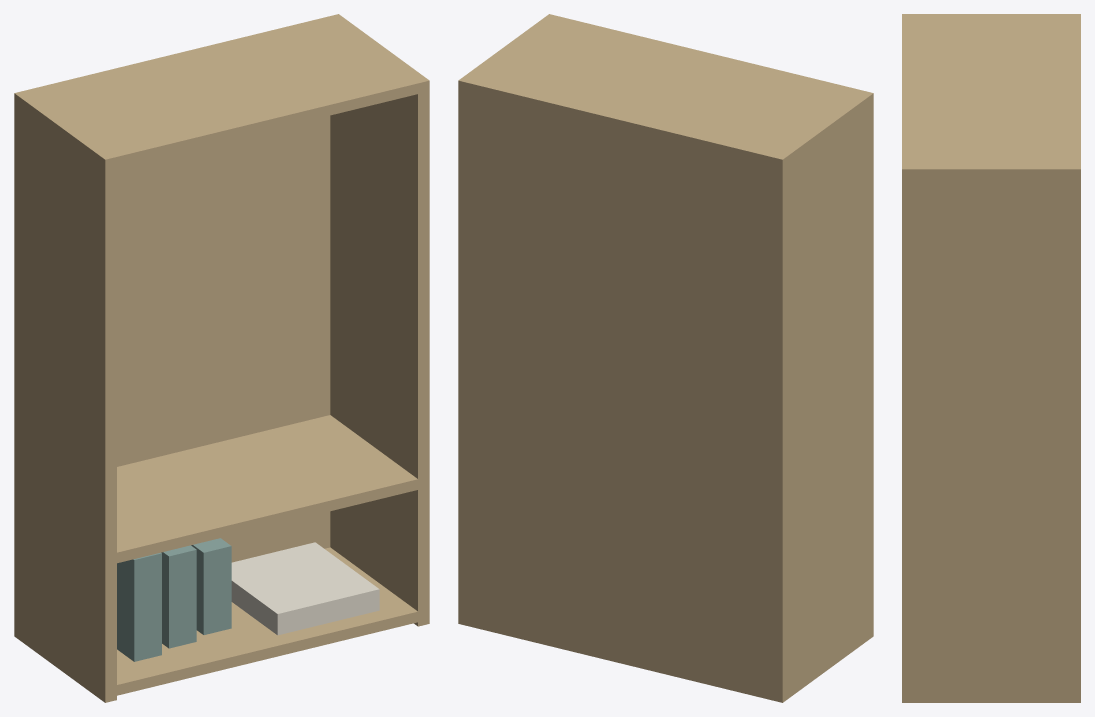
3 renders of one model, left to right at view 1: azimuth 30°, elevation 25°; view 2: azimuth 150°, elevation 25°; view 3: azimuth 270°, elevation 25°, orthographic.
Visible parts, largest first — view 1: Sides, Back, TopShelf, Shelf, Books, BottomShelf, PaperStack; view 2: Back, Sides, TopShelf, BottomShelf, Shelf; view 3: Sides, TopShelf, Back.
Boxes of the visible parts, bbox=[...] form: Sides: bbox=[14, 14, 429, 702]; Back: bbox=[26, 17, 330, 562]; TopShelf: bbox=[27, 17, 417, 167]; Shelf: bbox=[117, 415, 417, 563]; Books: bbox=[117, 538, 231, 661]; BottomShelf: bbox=[117, 547, 417, 695]; PaperStack: bbox=[231, 542, 379, 635]; Back: bbox=[470, 81, 773, 699]; Sides: bbox=[458, 14, 873, 702]; TopShelf: bbox=[470, 17, 861, 166]; BottomShelf: bbox=[470, 611, 770, 695]; Shelf: bbox=[495, 495, 770, 562]; Sides: bbox=[902, 14, 1080, 702]; TopShelf: bbox=[902, 19, 1080, 163]; Back: bbox=[1074, 19, 1080, 163].
Size of the model in its own units: 0.7 by 1.12 by 0.34.
